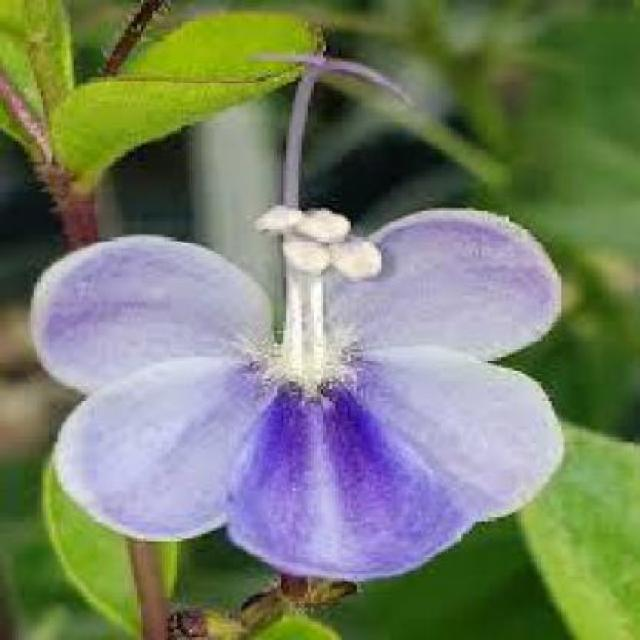flower: (33, 197, 573, 560)
